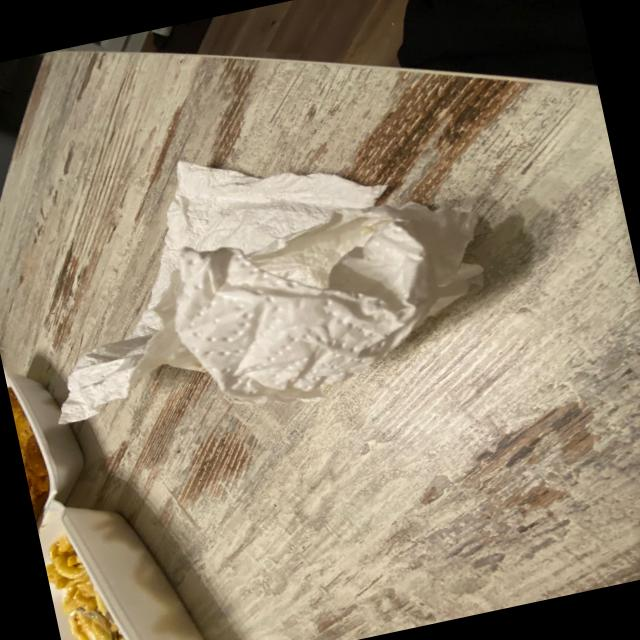organic waste: (5, 97, 512, 461)
